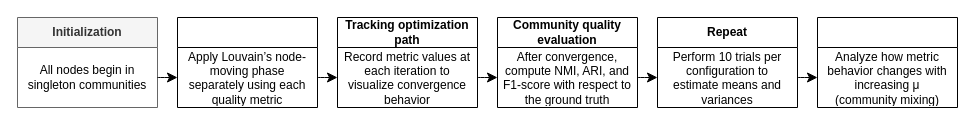
Image size: 975x125. Some labels were removed from this diagram. The box of each missing label's shape, as (x1, y1, x2, y2) in pixels:
Metric-specific optimization: (176, 16, 318, 108)
Sensitivity analysis: (816, 16, 958, 108)
